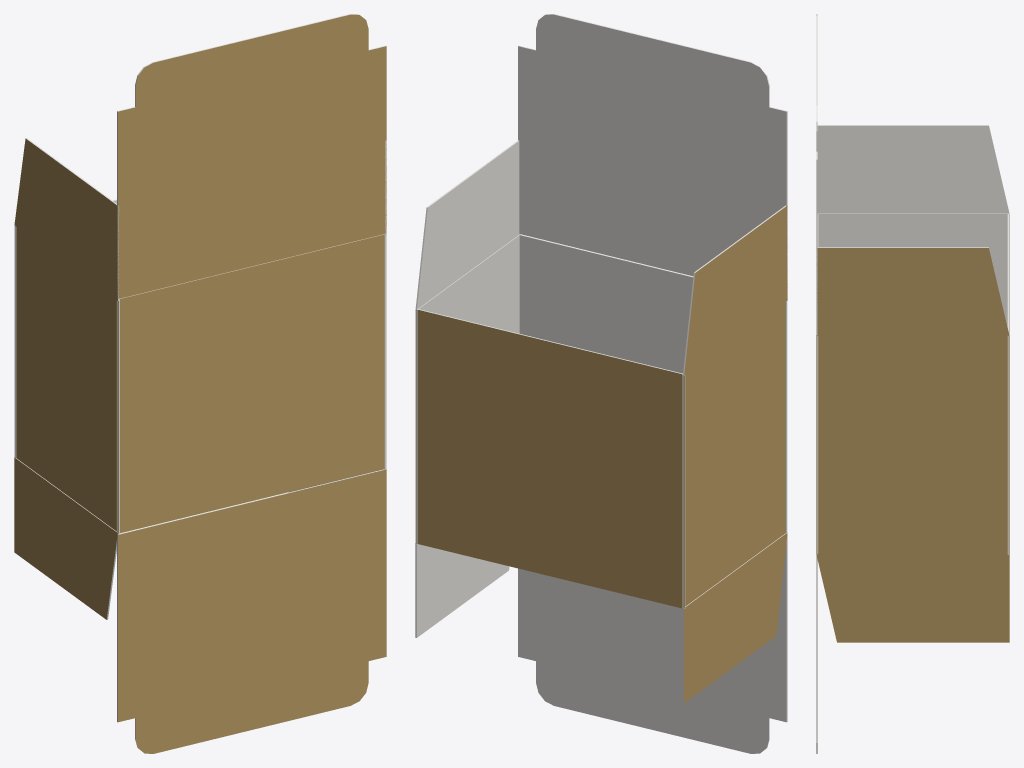
The picture shows the model from 3 angles, left to right: view 1: azimuth 30°, elevation 25°; view 2: azimuth 150°, elevation 25°; view 3: azimuth 270°, elevation 25°; orthographic projection. The views are drawn at different scales.
Visible parts, largest first — view 1: Packive_Box_fefco0210; view 2: Packive_Box_fefco0210; view 3: Packive_Box_fefco0210.
Boxes of the visible parts, x1,y1,x2,y2 form: Packive_Box_fefco0210: [14, 14, 386, 753]; Packive_Box_fefco0210: [415, 14, 787, 753]; Packive_Box_fefco0210: [816, 14, 1009, 753].
Bounding box in the file's own units: 0.3 × 0.7375 × 0.2.
Materials: 24 (12 with a texture image).
